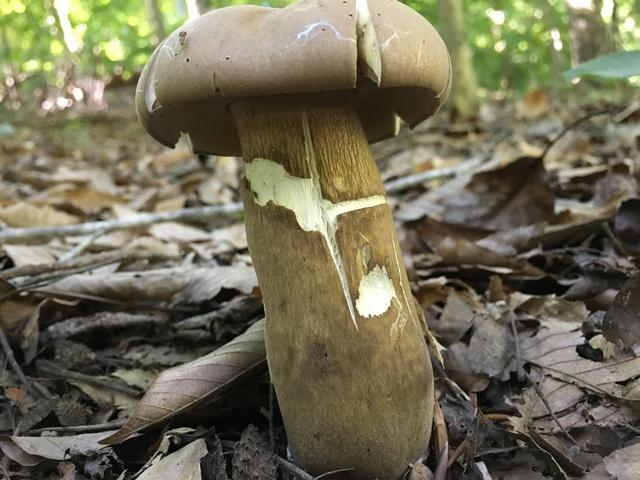Non-edible Mushroom: (133, 0, 454, 477)
